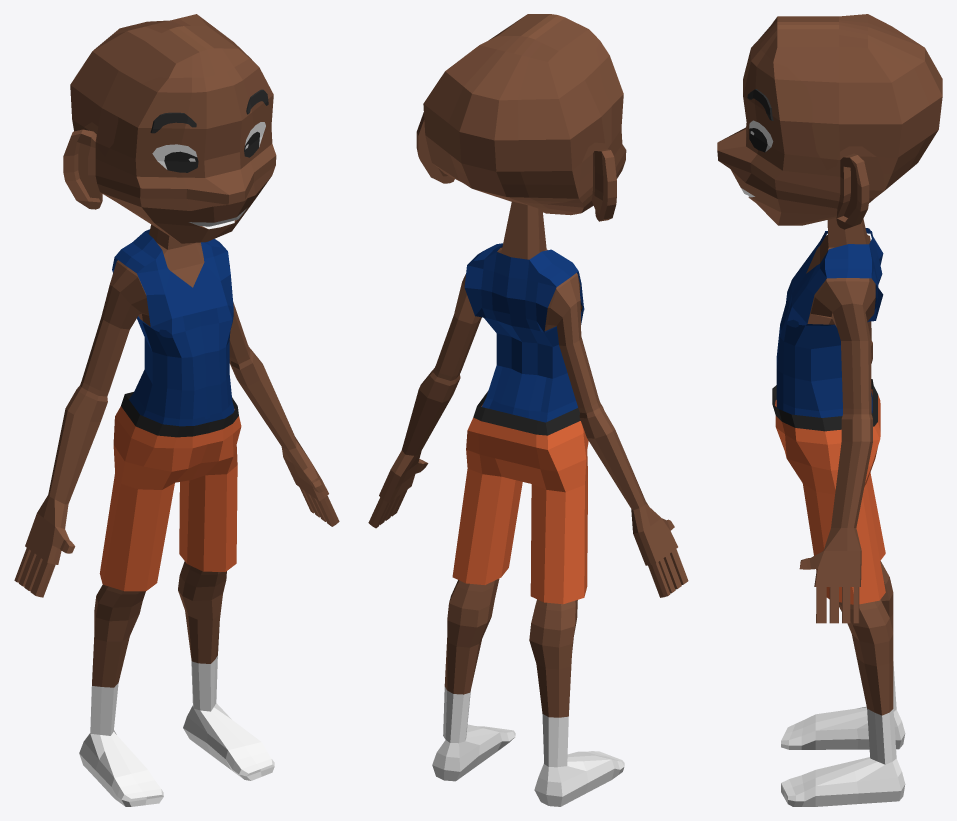
The model's file is player.glb.
3 views of the same model, side by side, from view 1: azimuth 30°, elevation 25°; view 2: azimuth 150°, elevation 25°; view 3: azimuth 270°, elevation 25° (orthographic).
Parts seen in each view (by area): view 1: SkinniBoy; view 2: SkinniBoy; view 3: SkinniBoy.
Part boxes in pixels (left/top/right/bottom): SkinniBoy: left=14, top=14, right=339, bottom=806; SkinniBoy: left=368, top=14, right=688, bottom=806; SkinniBoy: left=717, top=14, right=942, bottom=806.
Bounding box in the file's own units: 1.38 × 3.22 × 0.8804.
Materials: 1 (1 with a texture image).
